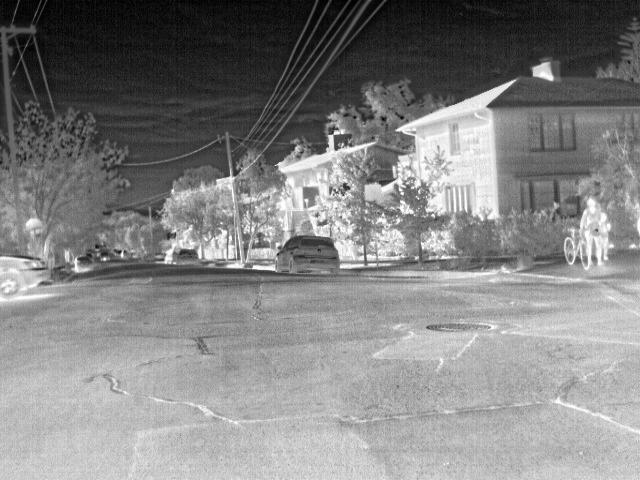car: (272, 234, 339, 274), (0, 252, 51, 299), (175, 248, 197, 265), (74, 254, 92, 269), (99, 250, 111, 262), (92, 242, 105, 253), (84, 252, 96, 262)
person: (584, 197, 601, 267), (597, 212, 610, 267)
